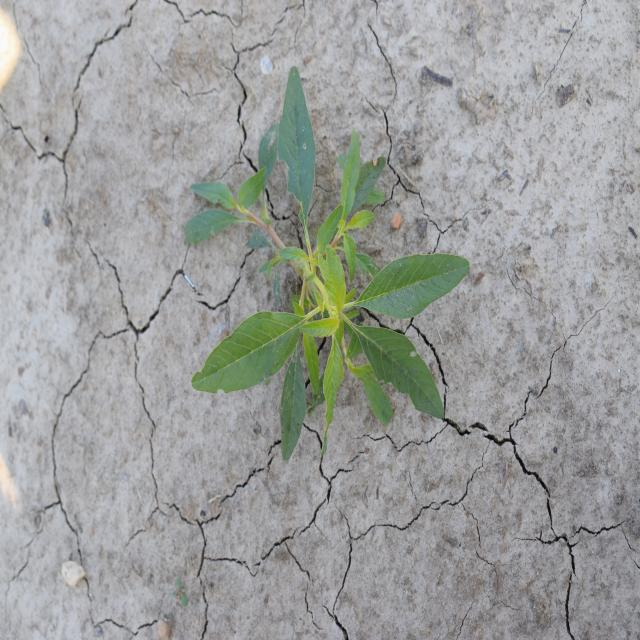Waterhemp: (183, 63, 472, 464)
